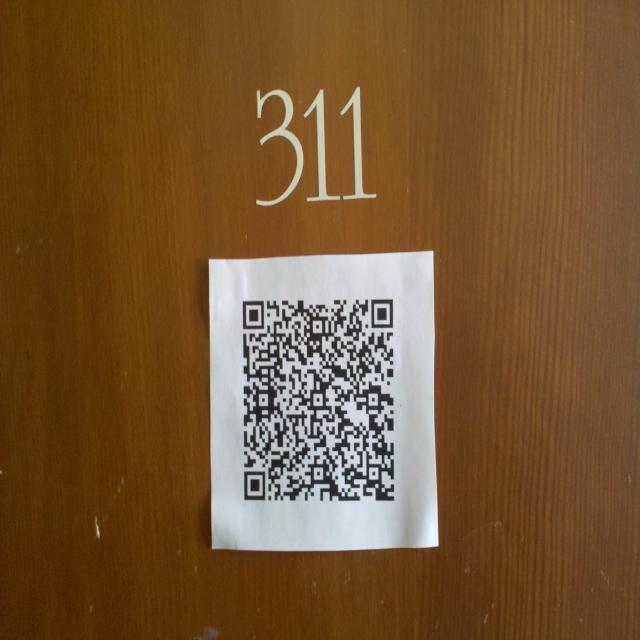qrcode: (244, 300, 395, 502)
